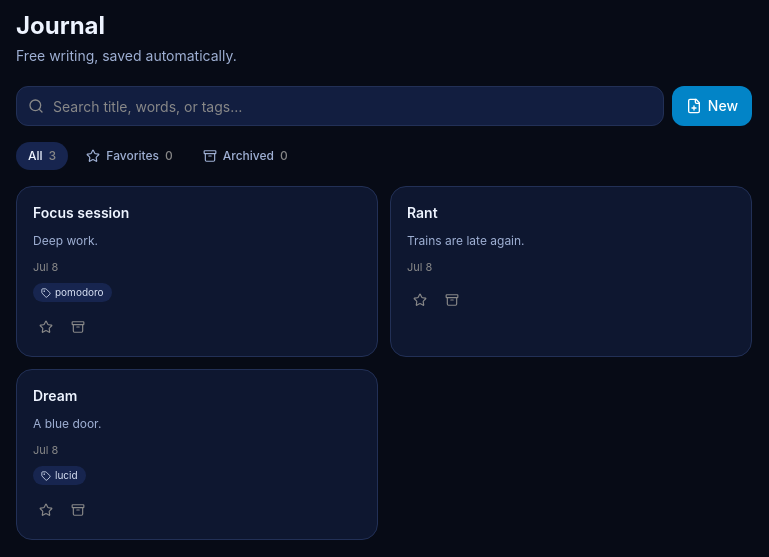
Test: JournalHome › filters by title, body, and tag through search
The width and height of the screenshot is (769, 557).
Type "trains" into the search field named "Search entries" at (340, 106), box [16,86,664,126]
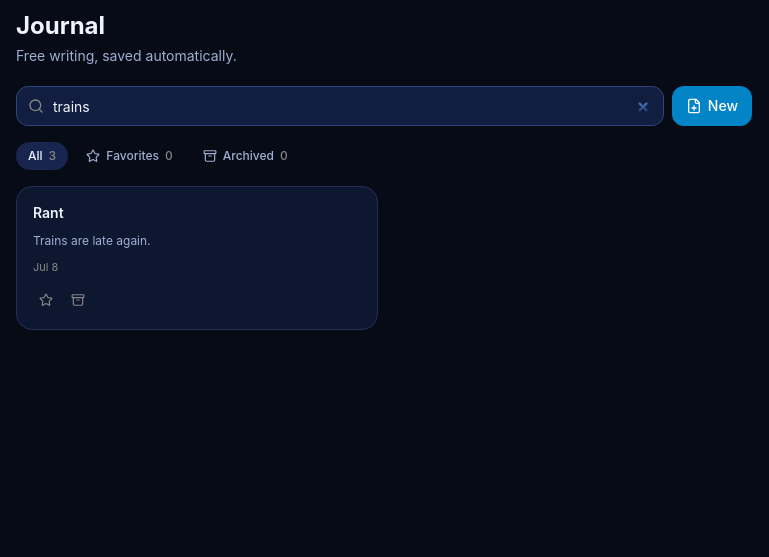
Result: the text "Trains are late again." is shown once at [33,233,151,248]
